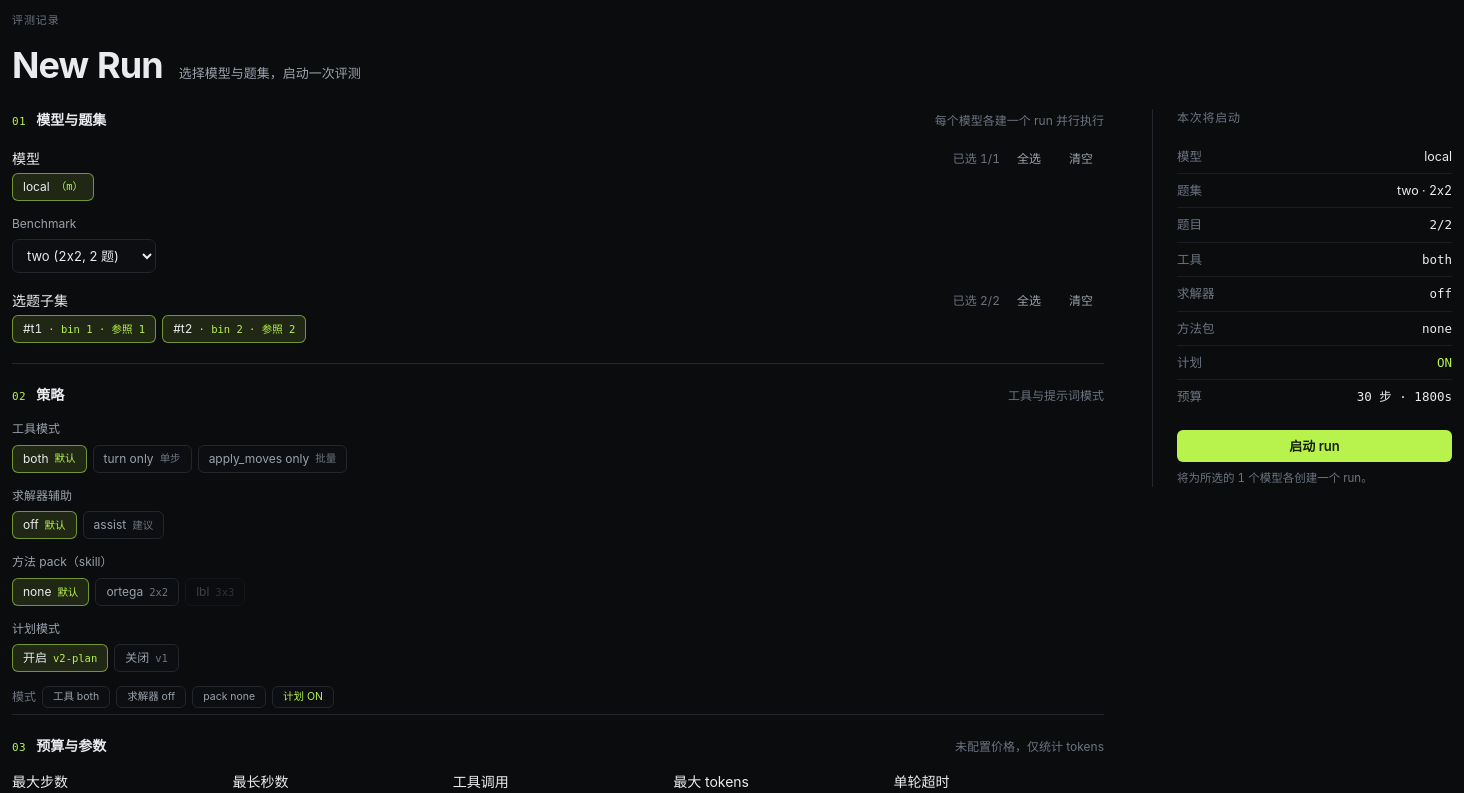
Scenario: NewRunView › requires at least one selected provider
Click the checkbox labelled "local （m）" at (53, 187), box [12,173,94,201]
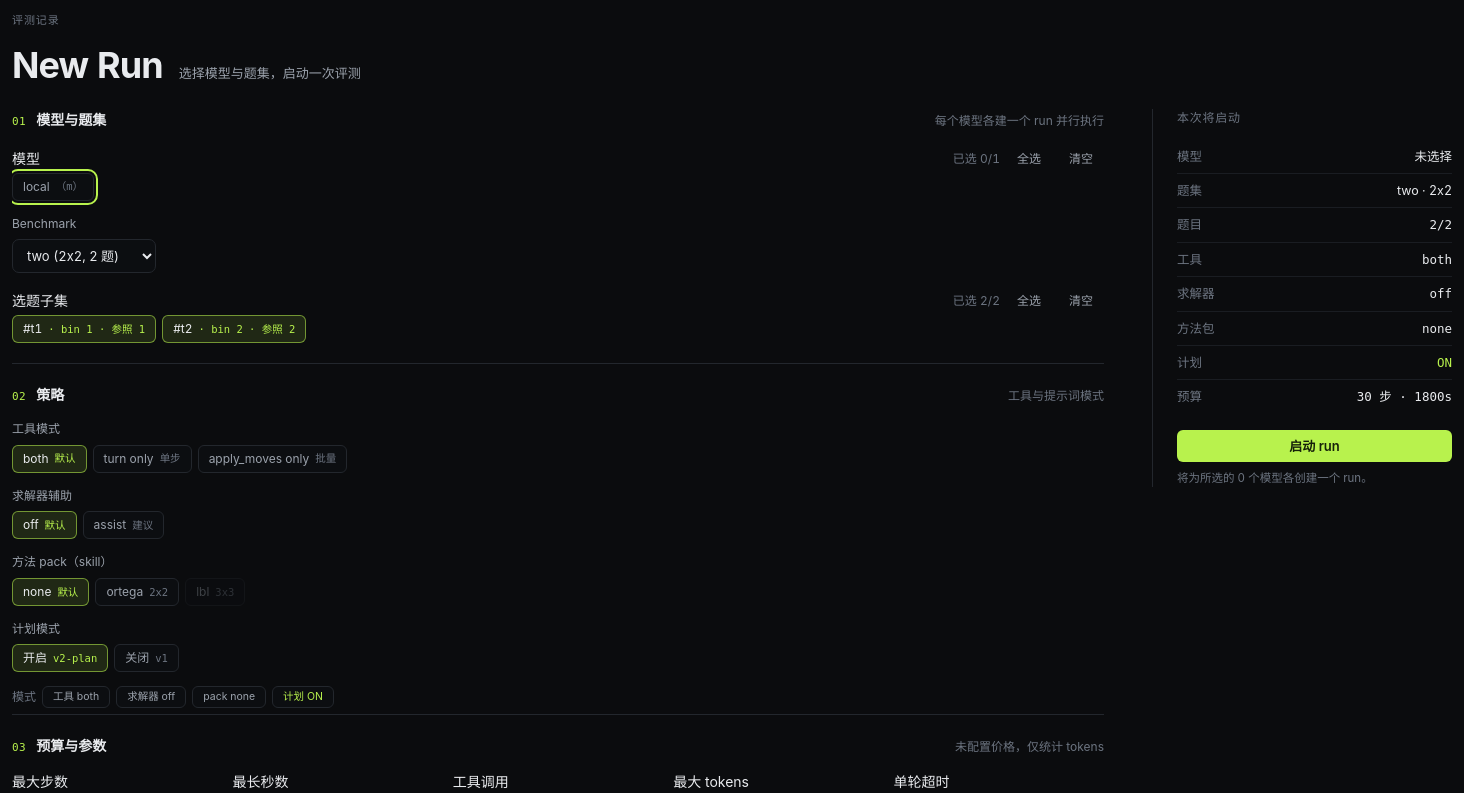
Click the button "启动 run" at (1314, 446), box [1177,430,1452,462]
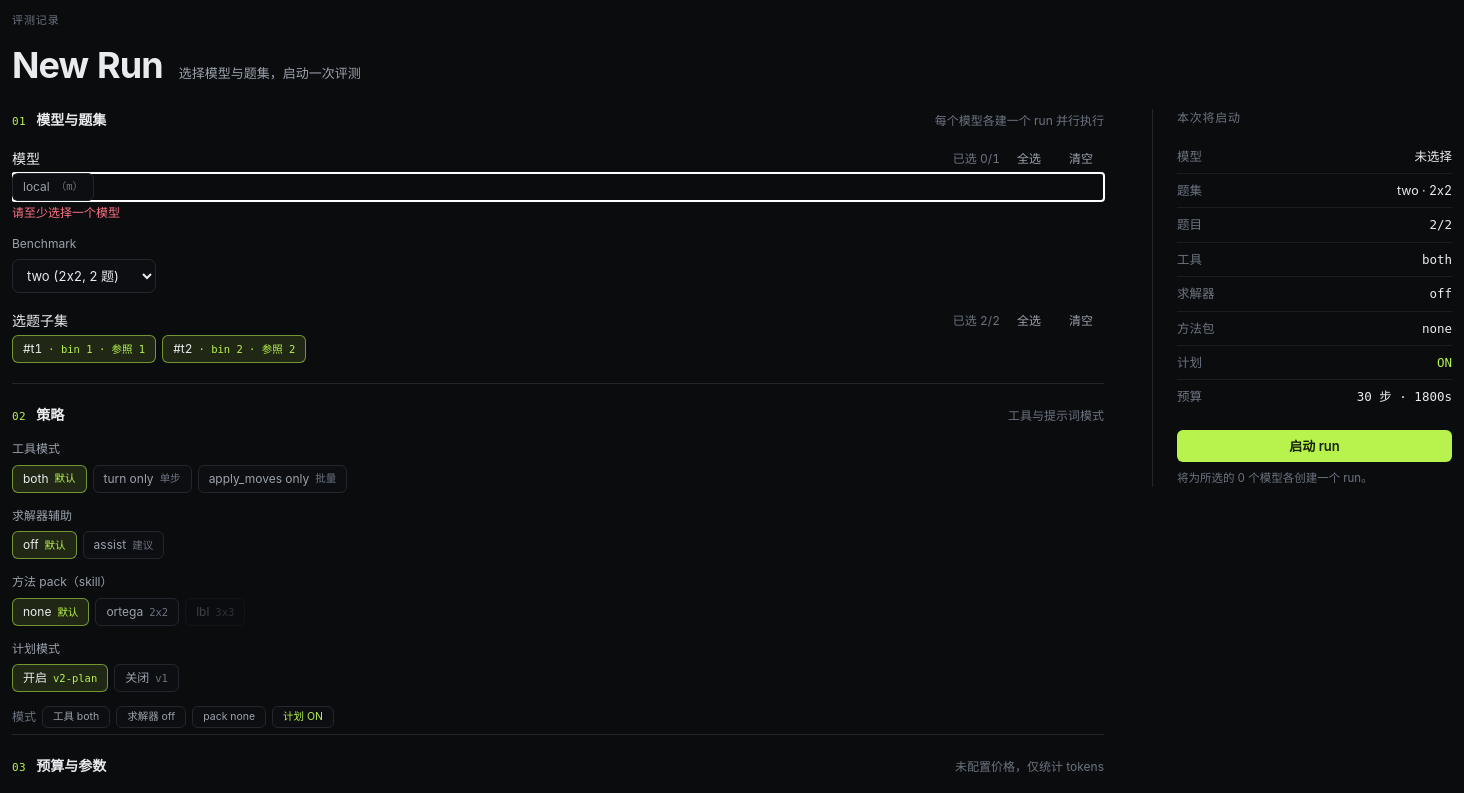
Expected: the text "请至少选择一个模型" is shown, [12,205,120,220]
